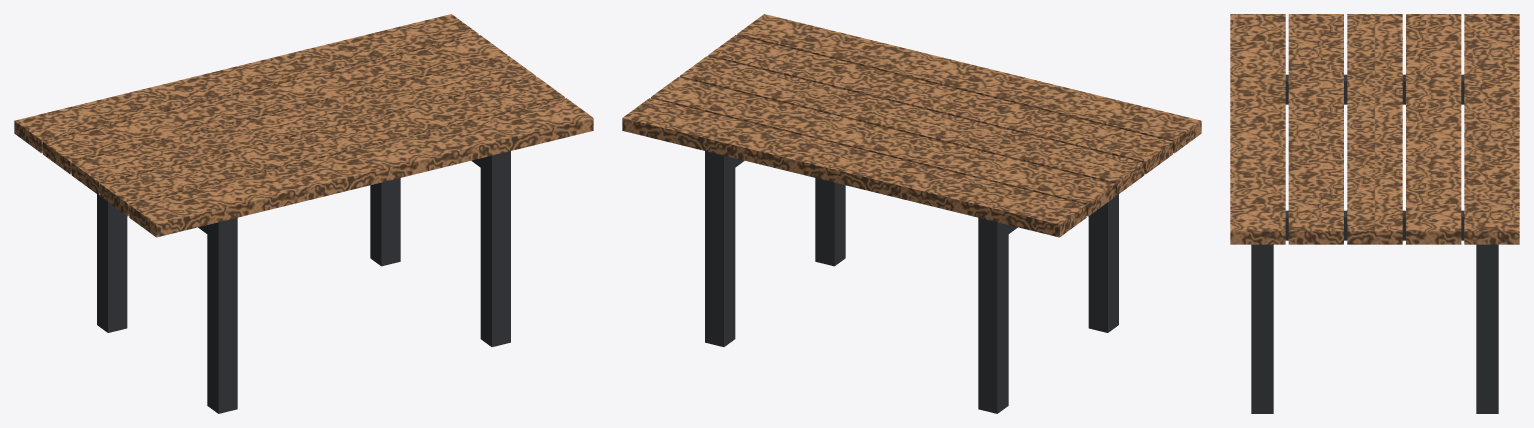
The picture shows the model from 3 angles, left to right: view 1: azimuth 30°, elevation 25°; view 2: azimuth 150°, elevation 25°; view 3: azimuth 270°, elevation 25°; orthographic projection.
Parts seen in each view (by area): view 1: benchWidth=0.3;benches=false;frameMaterial=steel_dark;height (×2); view 2: benchWidth=0.3;benches=false;frameMaterial=steel_dark;height (×2); view 3: benchWidth=0.3;benches=false;frameMaterial=steel_dark;height (×2).
Part boxes in pixels (x1=…): benchWidth=0.3;benches=false;frameMaterial=steel_dark;height (×2): x1=14, y1=14, x2=593, y2=413; benchWidth=0.3;benches=false;frameMaterial=steel_dark;height (×2): x1=622, y1=14, x2=1201, y2=413; benchWidth=0.3;benches=false;frameMaterial=steel_dark;height (×2): x1=1230, y1=14, x2=1519, y2=413.
Bounding box in the file's own units: 1.6 × 0.9 × 0.75.
2 materials, 1 textured.
